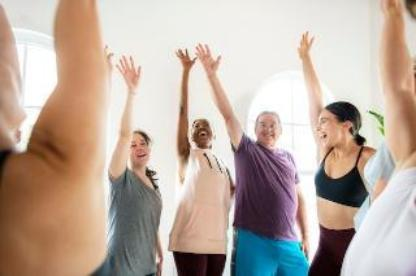person: (297, 22, 376, 276), (224, 82, 302, 276), (103, 55, 166, 276), (175, 102, 233, 276)
